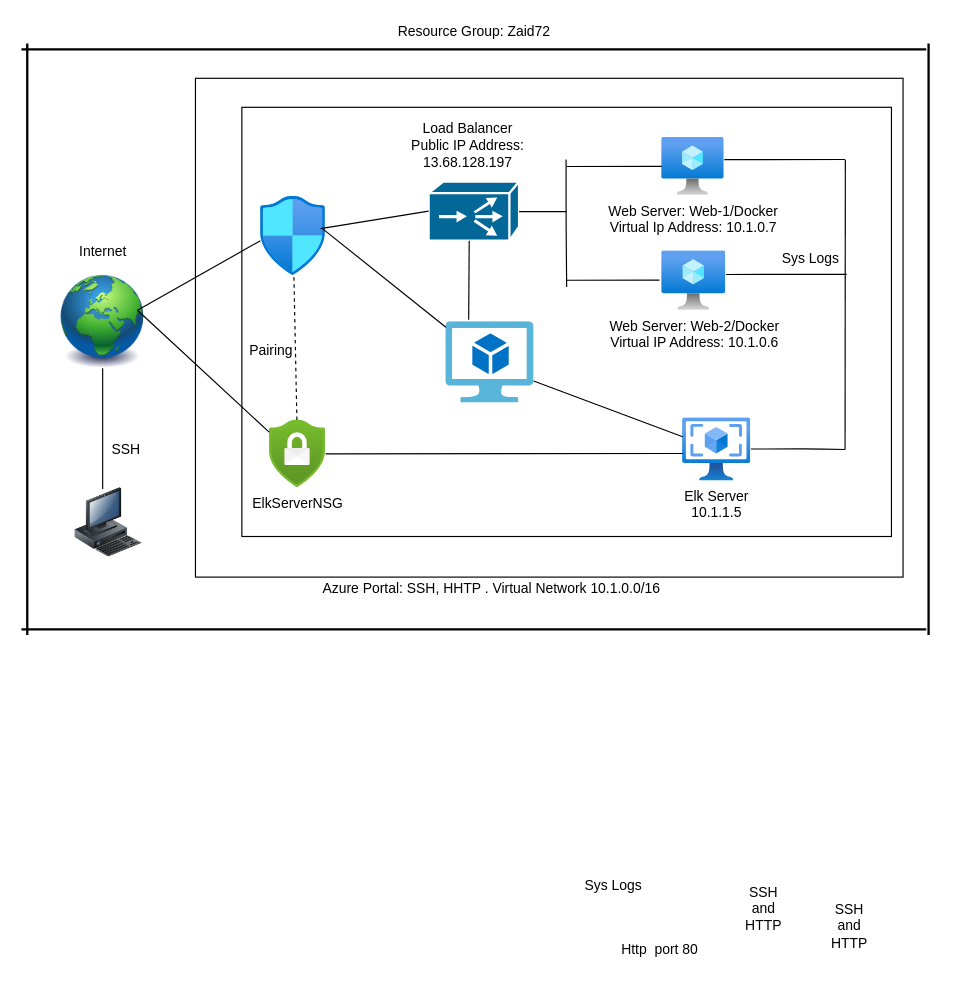
Some shapes in this 955 by 981 pixel diagram are drawn without their labels. Here are the shapes that lost their labels. From the top down, the centre of each, then its label:
pixel 292 235: NSG
pixel 489 362: Server: JumpServer Virtual AP address: 10.1.0.4
